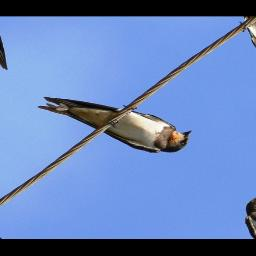Swallow: (33, 59, 201, 182)
